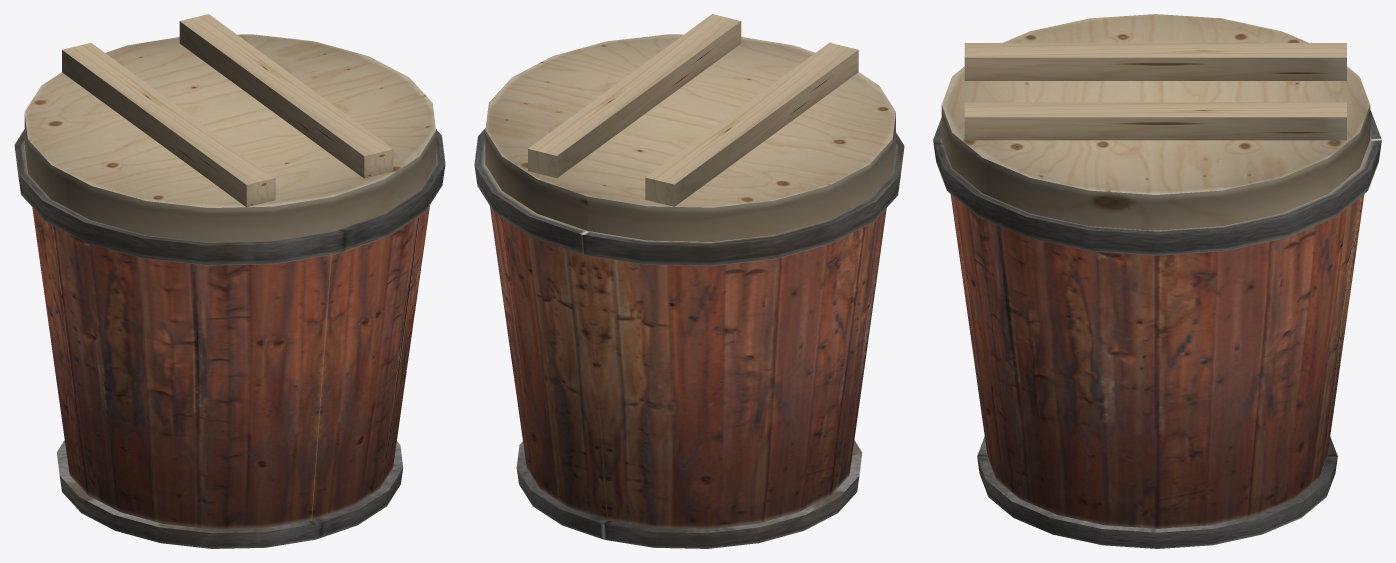
The model's file is RiceBucket01.fbx.
3 views of the same model, side by side, from view 1: azimuth 30°, elevation 25°; view 2: azimuth 150°, elevation 25°; view 3: azimuth 270°, elevation 25° (orthographic). The views are drawn at different scales.
Parts seen in each view (by area): view 1: Ricebucket01; view 2: Ricebucket01; view 3: Ricebucket01.
Part boxes in pixels (<box>): Ricebucket01: <box>14,14,445,548</box>; Ricebucket01: <box>474,14,904,548</box>; Ricebucket01: <box>933,14,1381,548</box>.
Size of the model in its own units: 20.31 by 19.58 by 20.31.
